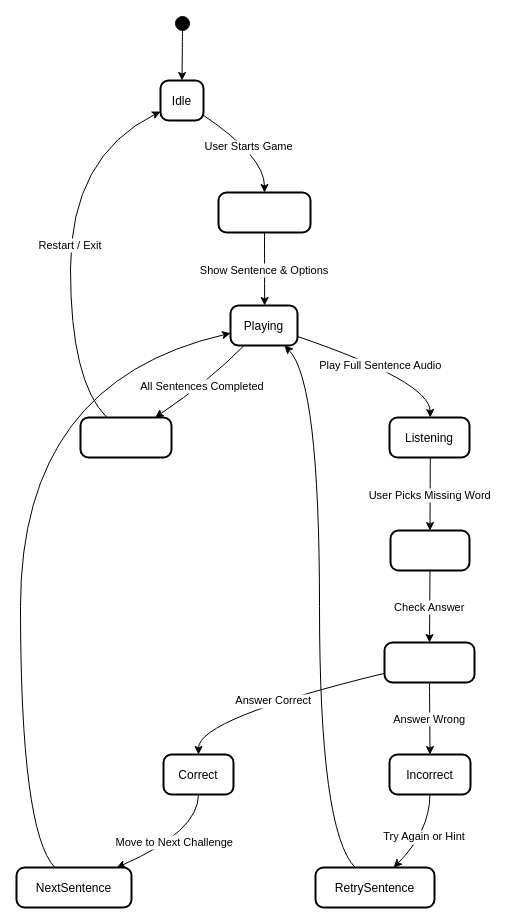
Image size: 509x924. Some labels were removed from this diagram. The shapes that lost their labels are listed below. From the top down, each one's box as (x1, y1, x2, y2) in pixels, then its label:
(217, 191, 311, 233): StartGame
(79, 416, 172, 458): GameOver
(389, 529, 470, 571): Choosing
(383, 641, 475, 683): Evaluating
